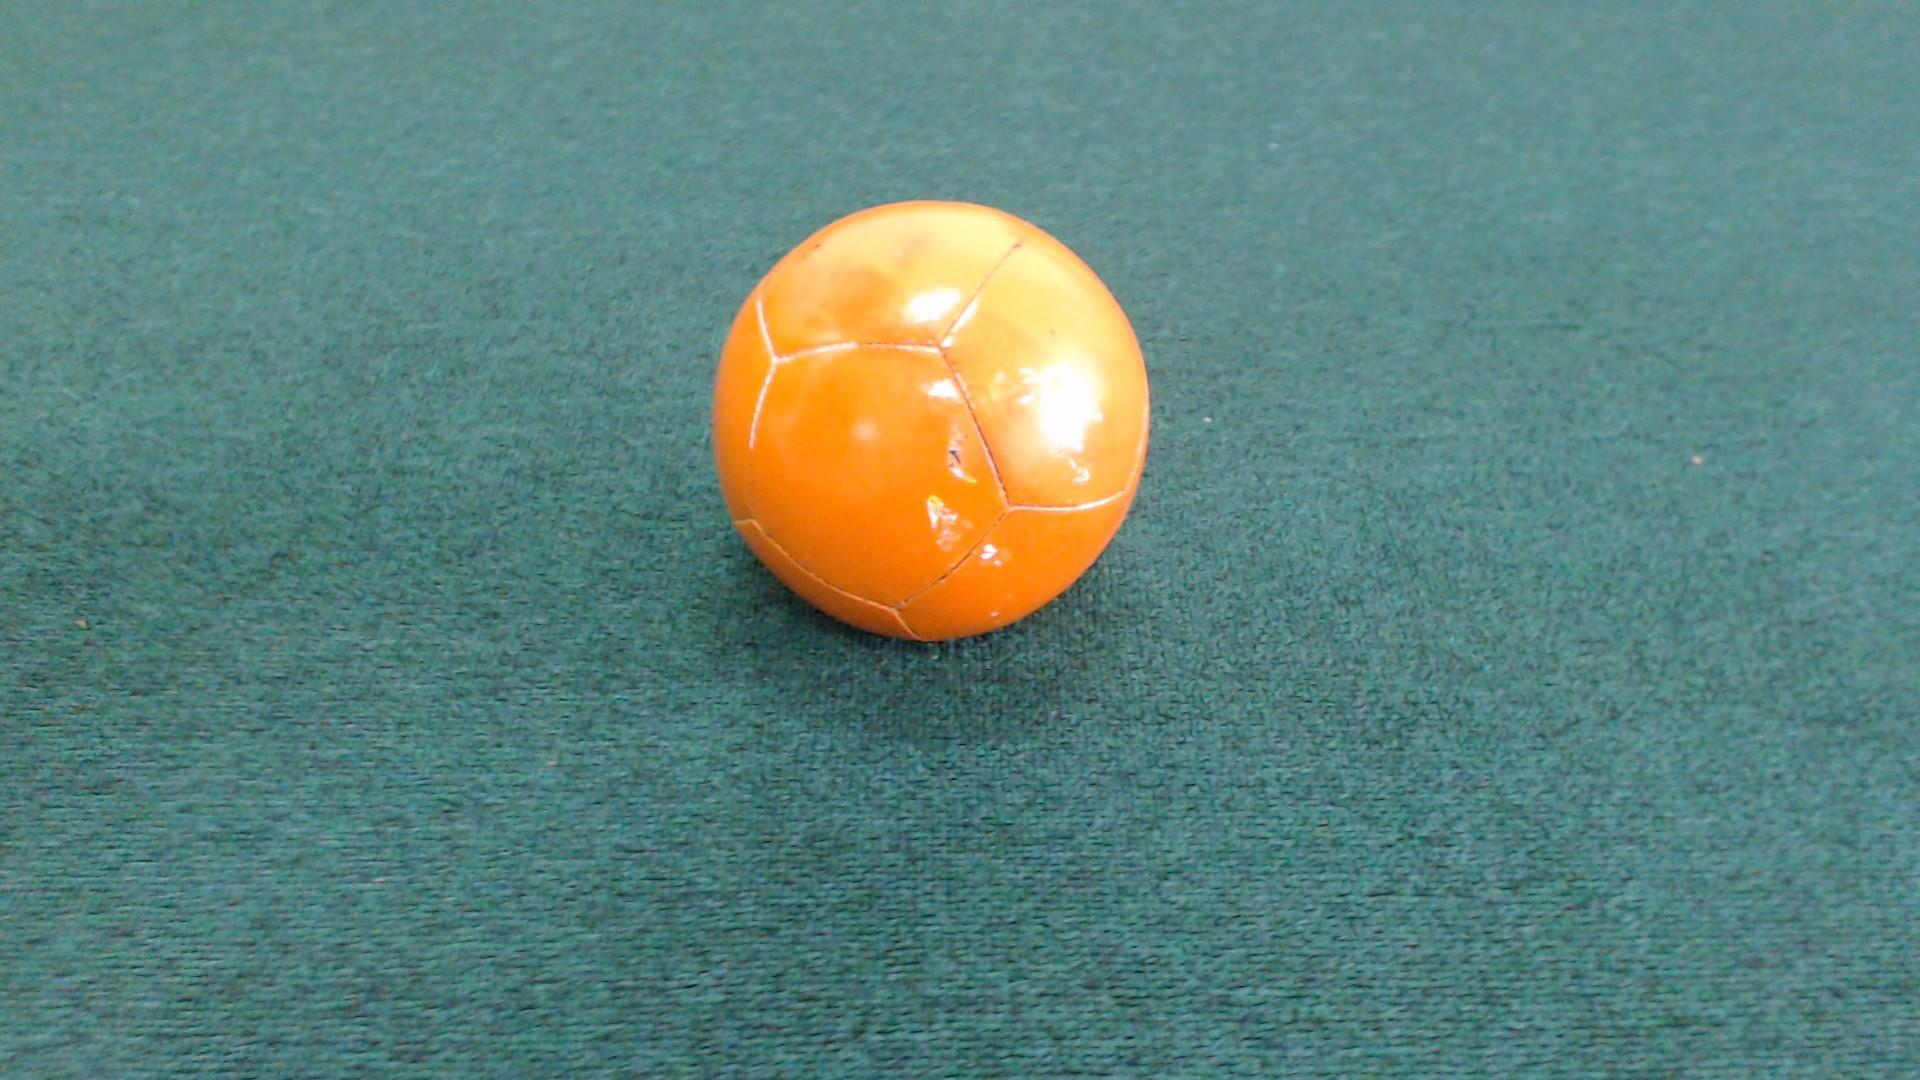bola: (662, 189, 1171, 650)
